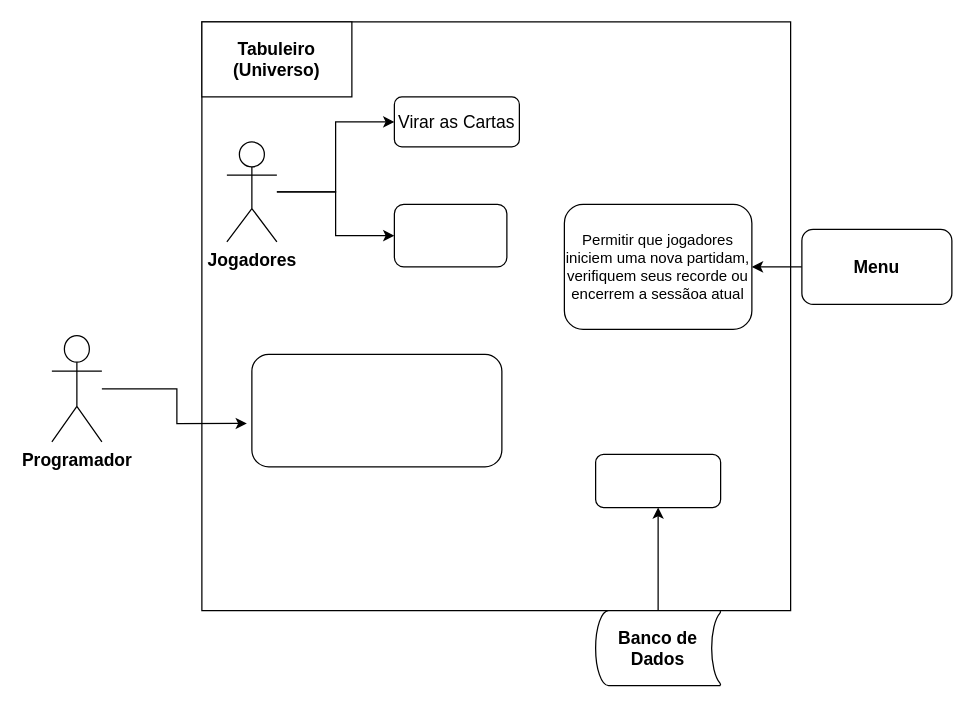
The diagram is 974 pixels wide and 708 high, and some of its shapes have lost their labels. Each missing label, with the box of its shape:
Coletar as Cartas: (393, 203, 507, 267)
Definir tabuleiro, distribuição de cartas, funcionamento do jogo: (251, 353, 502, 467)
Salvar as informações: (594, 453, 721, 508)
